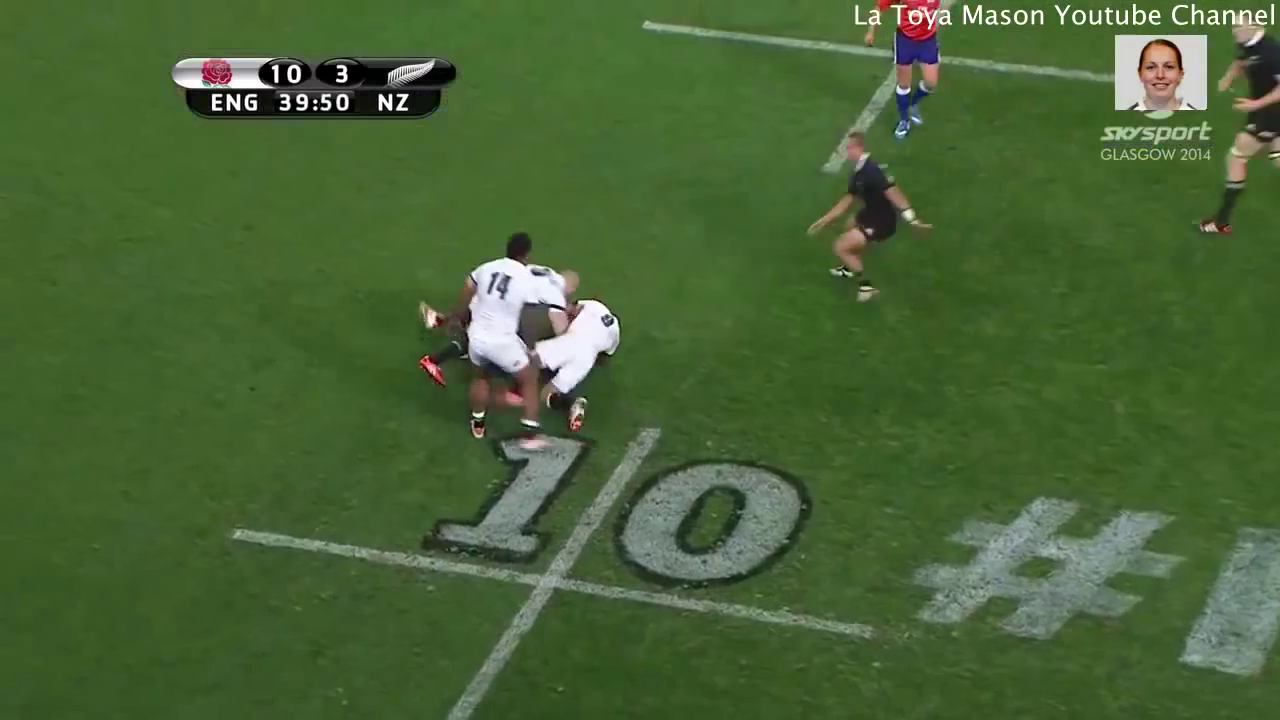10_metre: (221, 409, 882, 720), (625, 3, 1205, 186)
player: (799, 124, 939, 316), (1185, 1, 1280, 248), (458, 226, 555, 456), (521, 283, 634, 428), (850, 1, 955, 138)
ruck: (398, 231, 645, 429)
